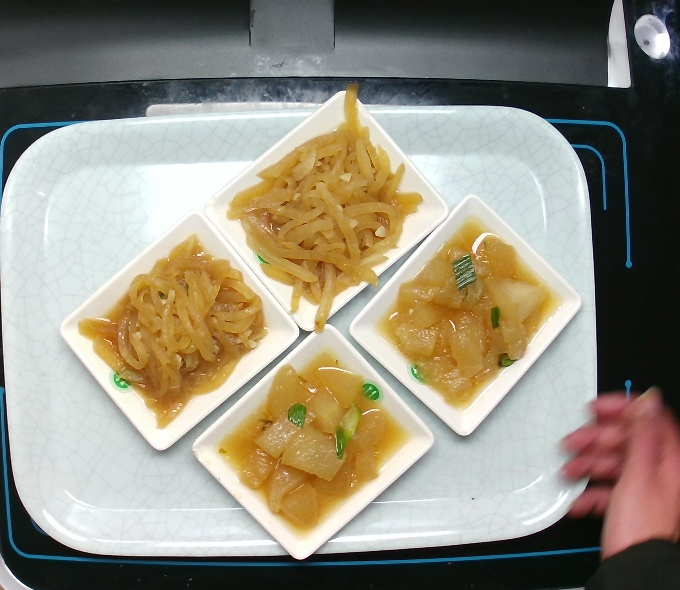wcq-DongGua: (385, 238, 548, 391), (231, 357, 394, 510)
wcq-LuoBoSi: (236, 124, 415, 310), (84, 227, 263, 413)
